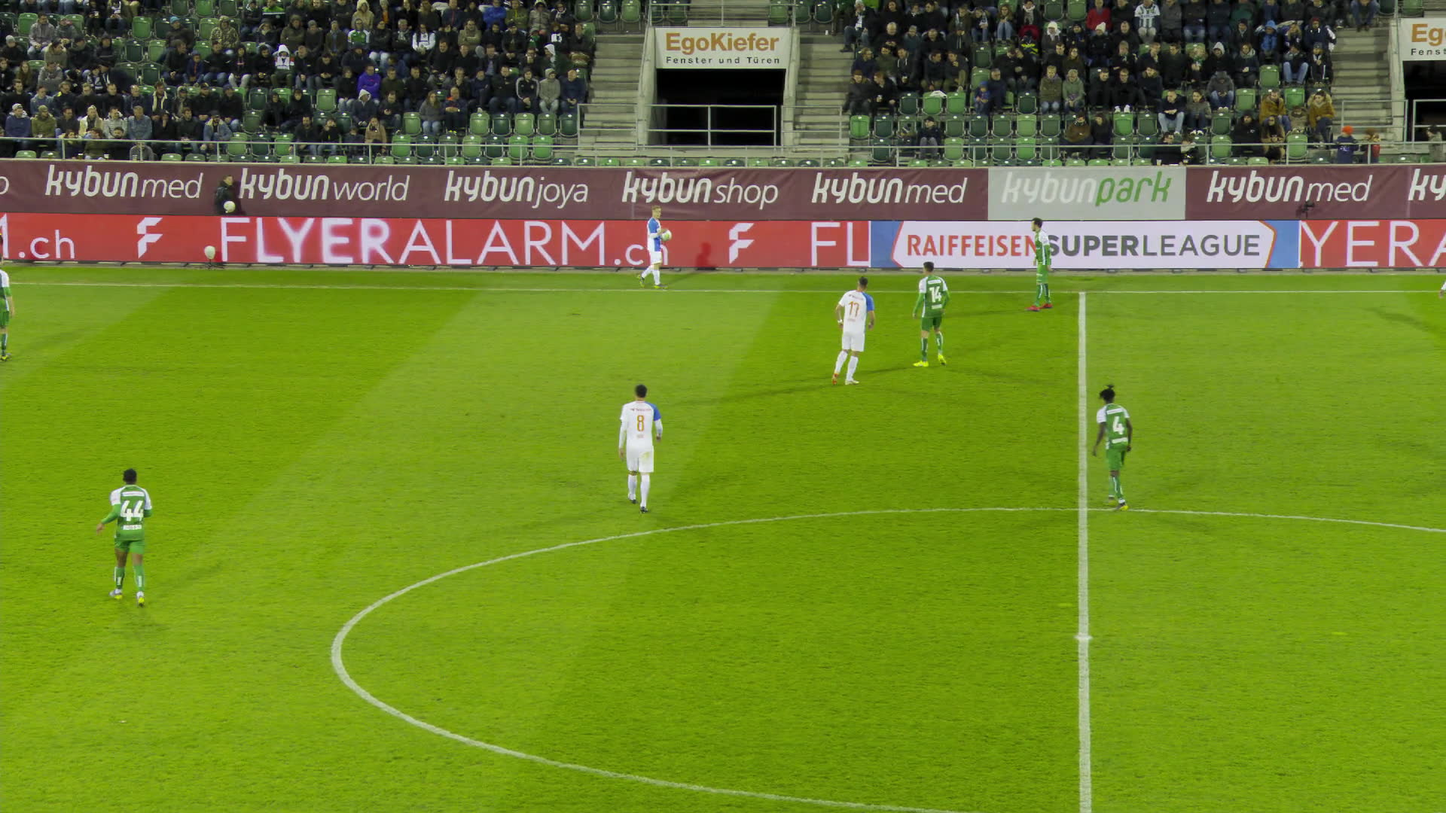ball: (661, 229, 672, 240)
player: (584, 384, 651, 515), (98, 467, 155, 606), (1094, 385, 1137, 512), (831, 276, 872, 385), (910, 262, 951, 367), (1023, 218, 1052, 310), (641, 208, 672, 289), (0, 257, 10, 370)
referee: (0, 215, 17, 277)
